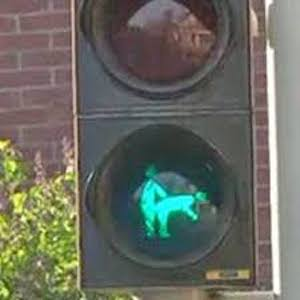green: (129, 161, 203, 246)
